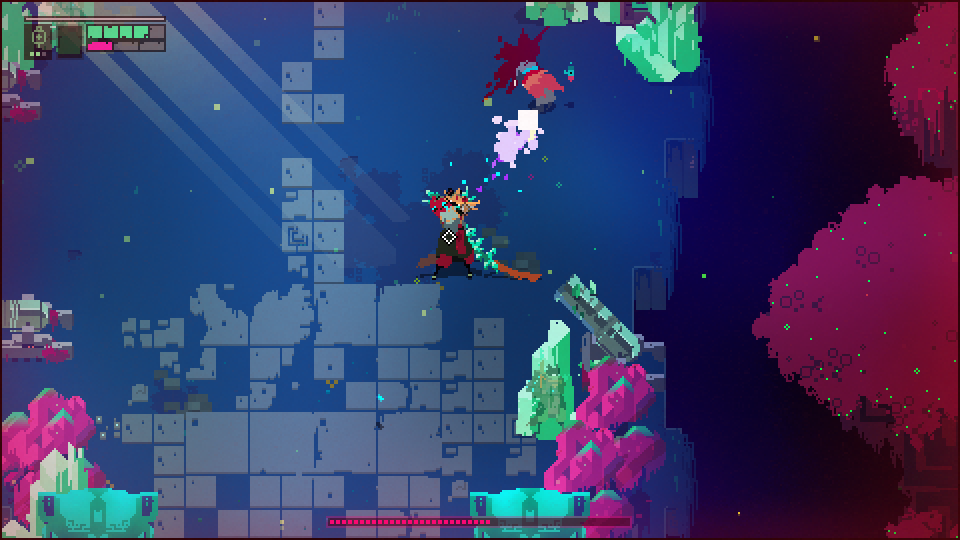hanged_man: (414, 182, 517, 284)
player: (514, 61, 565, 113)
